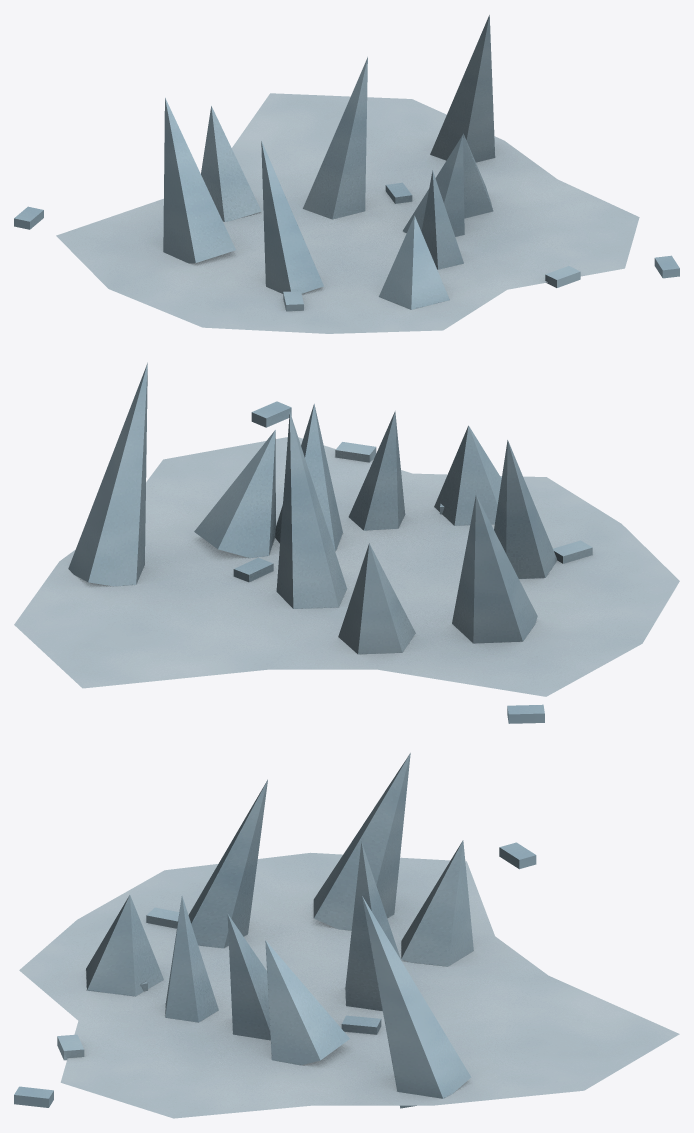
File: trap_snow_light_sprung.glb
3 views of the same model, one above another, from view 1: azimuth 30°, elevation 25°; view 2: azimuth 150°, elevation 25°; view 3: azimuth 270°, elevation 25° (orthographic). The views are drawn at different scales.
Parts seen in each view (by area): view 1: trap_snow_light_sprung; view 2: trap_snow_light_sprung; view 3: trap_snow_light_sprung.
Boxes of the visible parts, box(x1,y1,x2,y2) form: trap_snow_light_sprung: box(14, 15, 679, 333); trap_snow_light_sprung: box(14, 362, 679, 723); trap_snow_light_sprung: box(14, 753, 679, 1118).
Bounding box in the file's own units: 1.24 × 0.4372 × 1.29.
2 materials, 2 textured.
